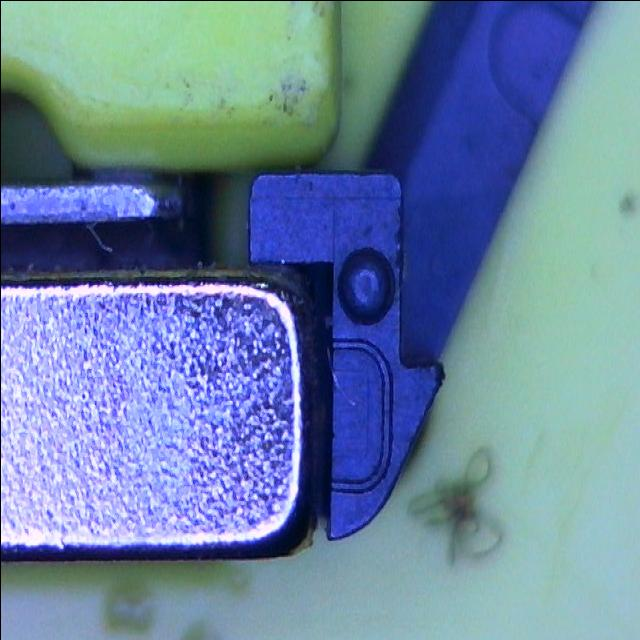noResin: (323, 336, 393, 495)
